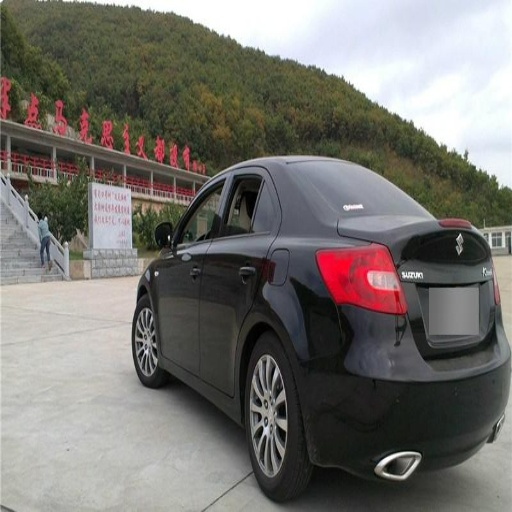back_bumper: (292, 307, 511, 483)
back_glass: (289, 161, 427, 217)
back_left_door: (201, 166, 278, 385)
